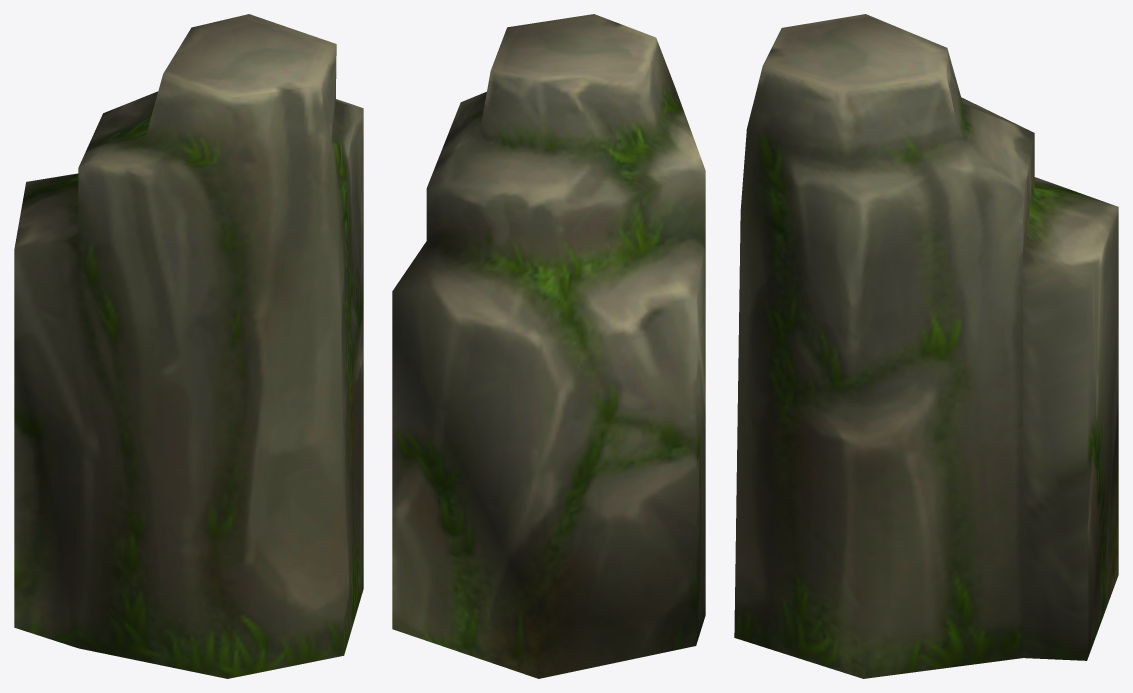
Rendered from RockFormation_4_5 (23).fbx.
The picture shows the model from 3 angles, left to right: view 1: azimuth 30°, elevation 25°; view 2: azimuth 150°, elevation 25°; view 3: azimuth 270°, elevation 25°; orthographic projection. The views are drawn at different scales.
Visible parts, largest first — view 1: RockFormation_4_5 (23); view 2: RockFormation_4_5 (23); view 3: RockFormation_4_5 (23).
Part boxes in pixels (bbox=[...]): RockFormation_4_5 (23): bbox=[14, 14, 363, 678]; RockFormation_4_5 (23): bbox=[392, 14, 705, 678]; RockFormation_4_5 (23): bbox=[734, 14, 1118, 678].
Size of the model in its own units: 704 by 1251 by 769.
